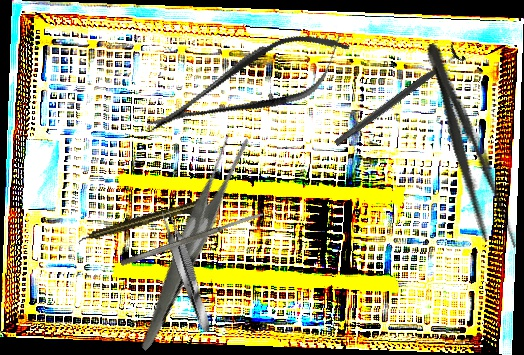Dressing Forceps: (83, 126, 297, 352), (413, 38, 523, 257)
Fixation Ring: (328, 40, 467, 154)
Handpiece: (75, 198, 205, 246)
Micro Scissor: (134, 15, 362, 155)
Spatula Surgical: (119, 210, 265, 268)
Tissue Forceps: (156, 207, 216, 335)
